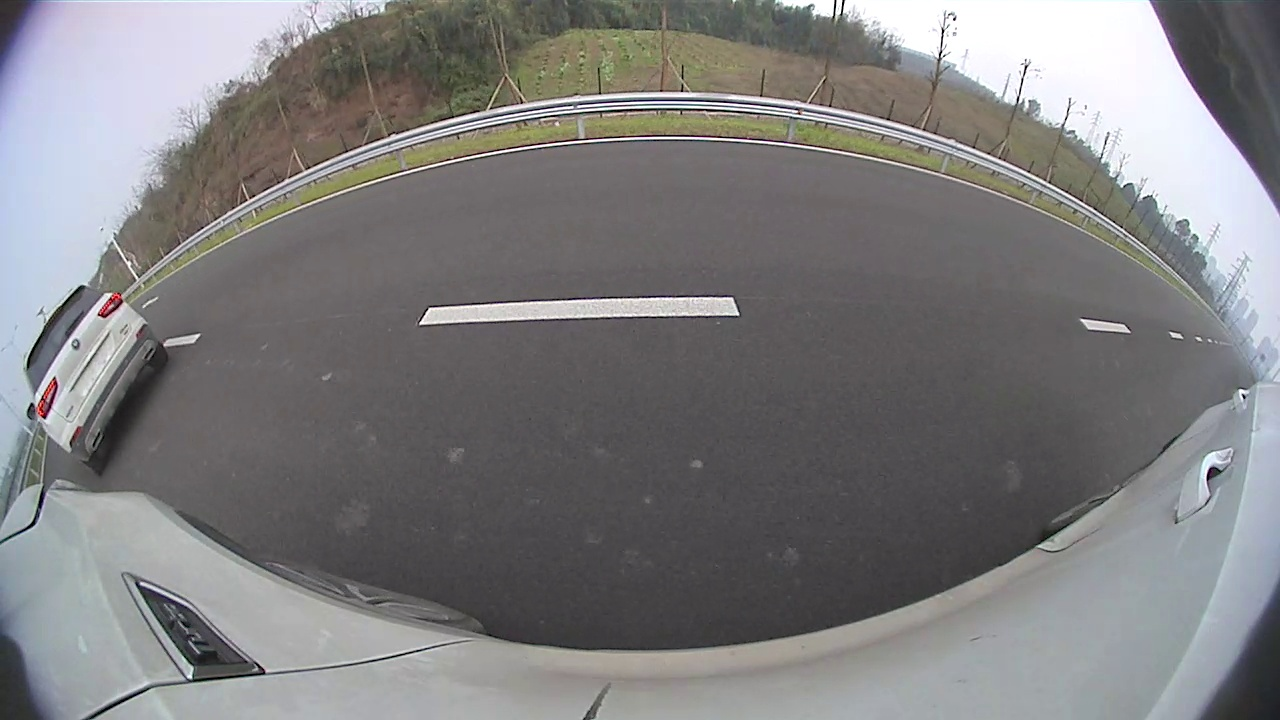car: (673, 142, 742, 200)
